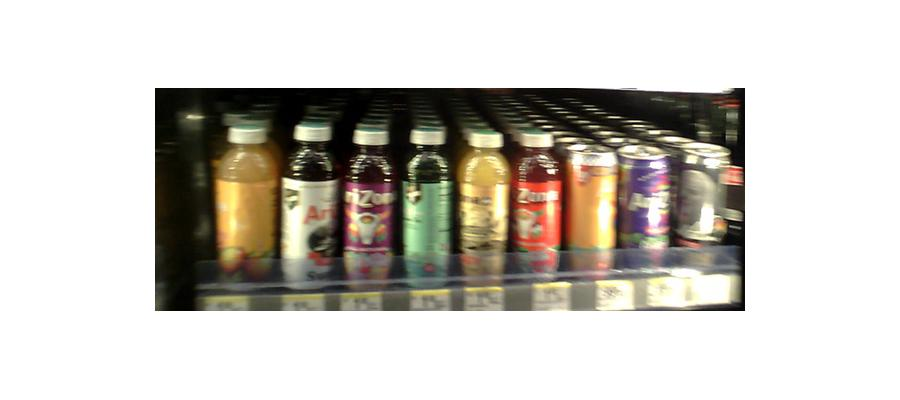bottle: (213, 120, 277, 291), (281, 121, 337, 299), (342, 119, 395, 296), (403, 118, 453, 295), (458, 132, 509, 292), (513, 128, 563, 282), (617, 142, 673, 274), (567, 143, 617, 278), (678, 142, 727, 257)
